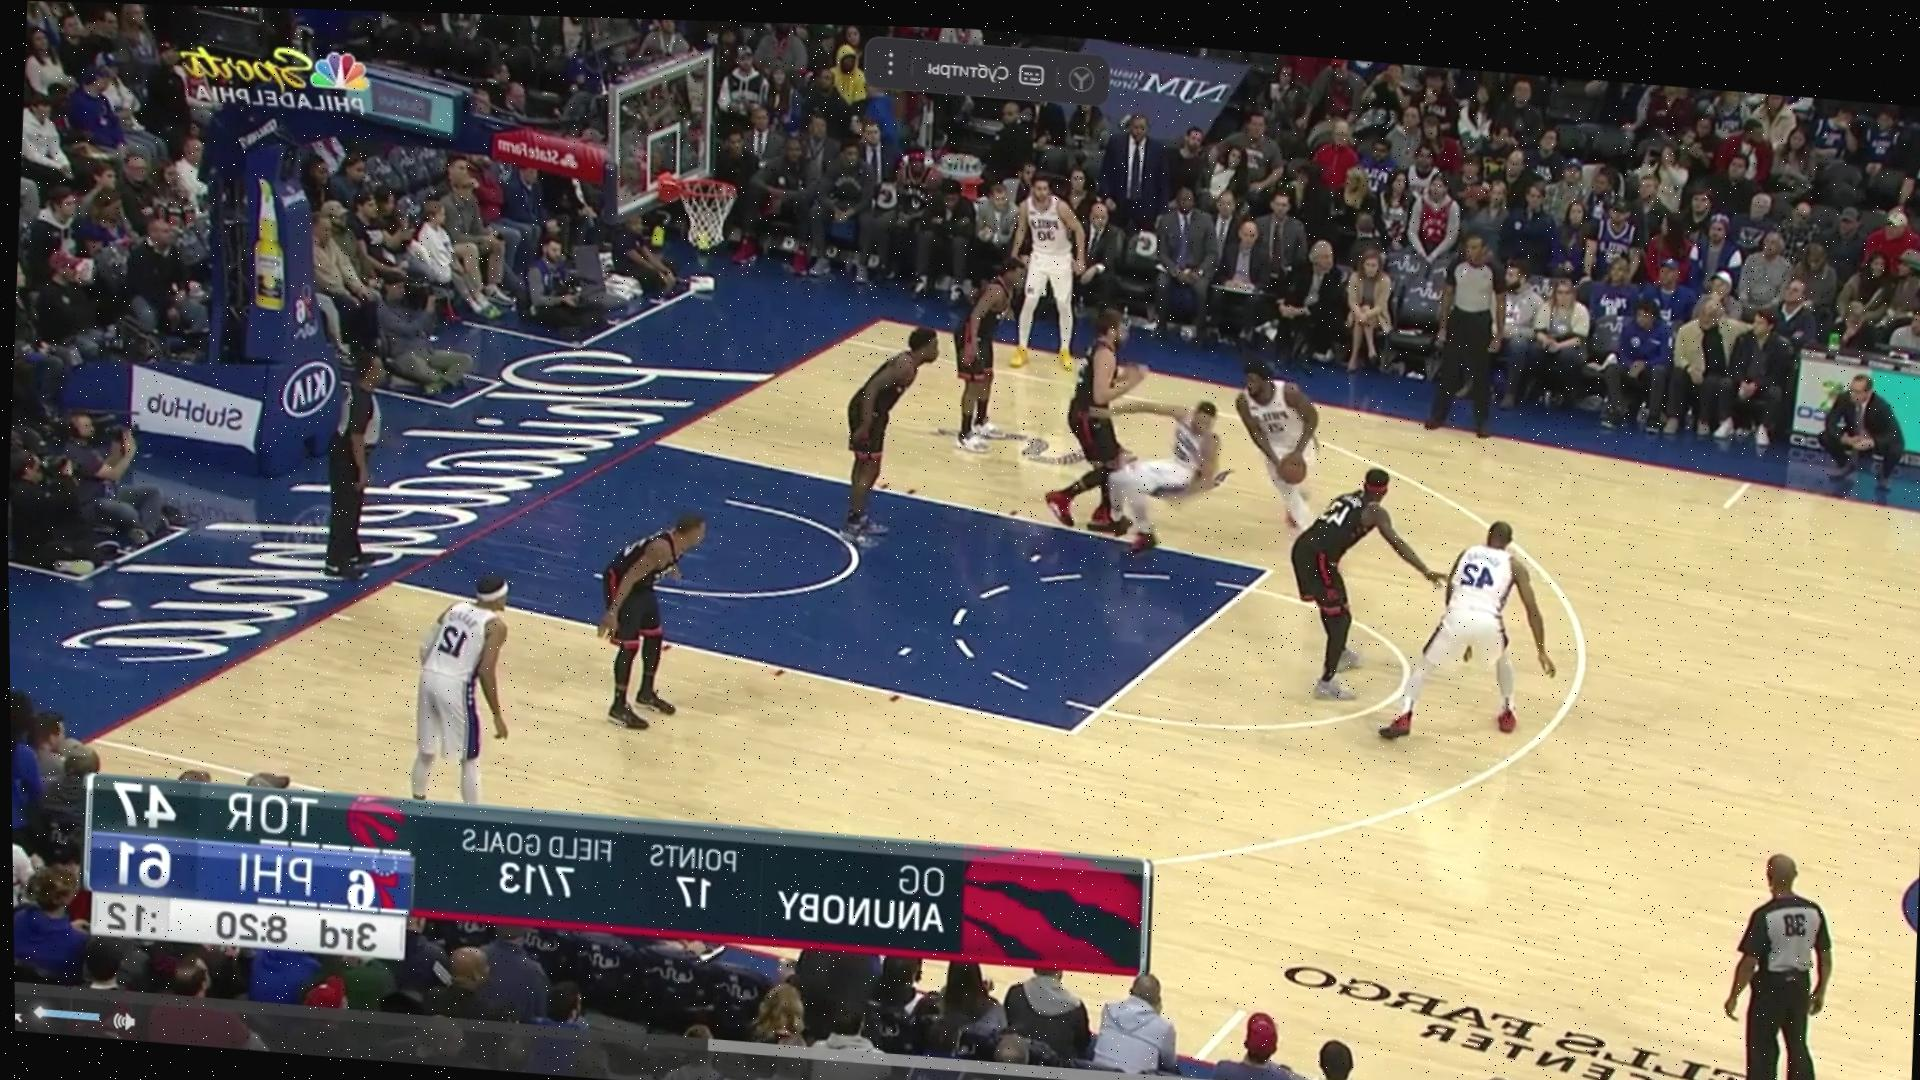foul: (1038, 315, 1242, 571)
